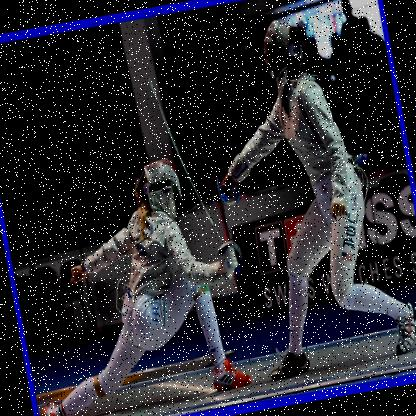fencer: (186, 0, 415, 389), (5, 146, 259, 415)
